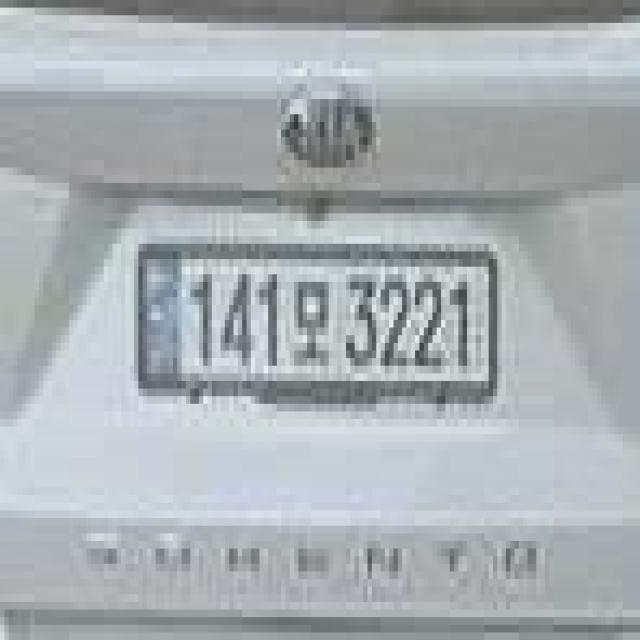illegal_plate: (130, 232, 502, 420)
